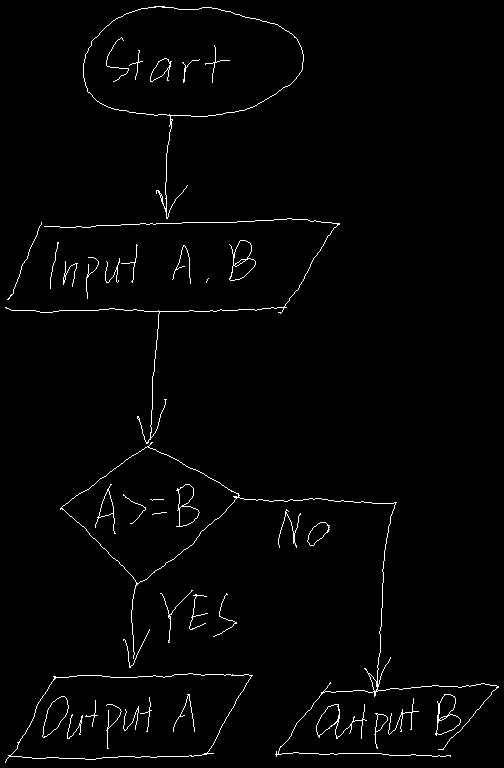arrow: (233, 496, 396, 696), (137, 310, 166, 443), (156, 114, 187, 218), (123, 583, 149, 667)
data: (5, 218, 339, 313), (5, 673, 252, 762), (275, 682, 498, 756)
decision: (60, 442, 239, 584)
terminator: (83, 6, 303, 116)
text: (50, 240, 255, 298), (42, 694, 194, 748), (316, 694, 460, 748), (106, 37, 229, 82), (95, 484, 199, 533), (160, 590, 236, 642), (278, 509, 329, 547)
